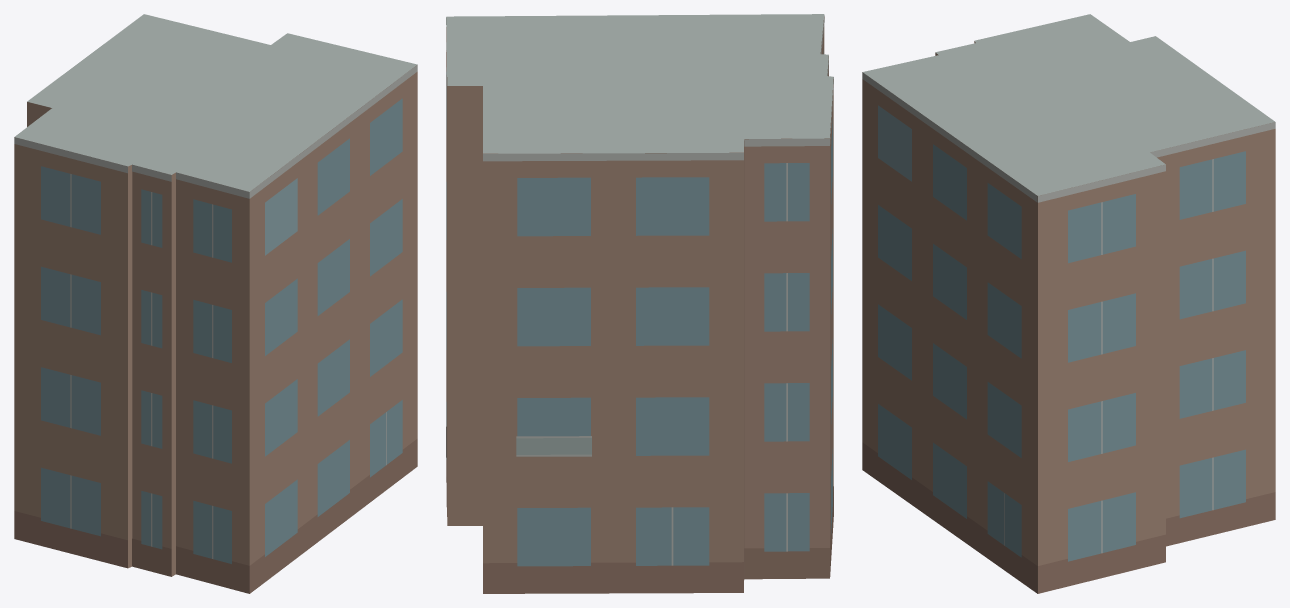
The model's file is survey-upis-32676599.glb.
3 renders of one model, left to right at view 1: azimuth 30°, elevation 25°; view 2: azimuth 150°, elevation 25°; view 3: azimuth 270°, elevation 25°, orthographic. The views are drawn at different scales.
Visible parts, largest first — view 1: survey-upis-32676599.tmp; view 2: survey-upis-32676599.tmp; view 3: survey-upis-32676599.tmp.
Boxes of the visible parts, left/top/right/bottom form: survey-upis-32676599.tmp: left=14, top=14, right=417, bottom=593; survey-upis-32676599.tmp: left=446, top=14, right=833, bottom=593; survey-upis-32676599.tmp: left=862, top=14, right=1275, bottom=593.
Size of the model in its own units: 13.96 by 14.22 by 13.39.
